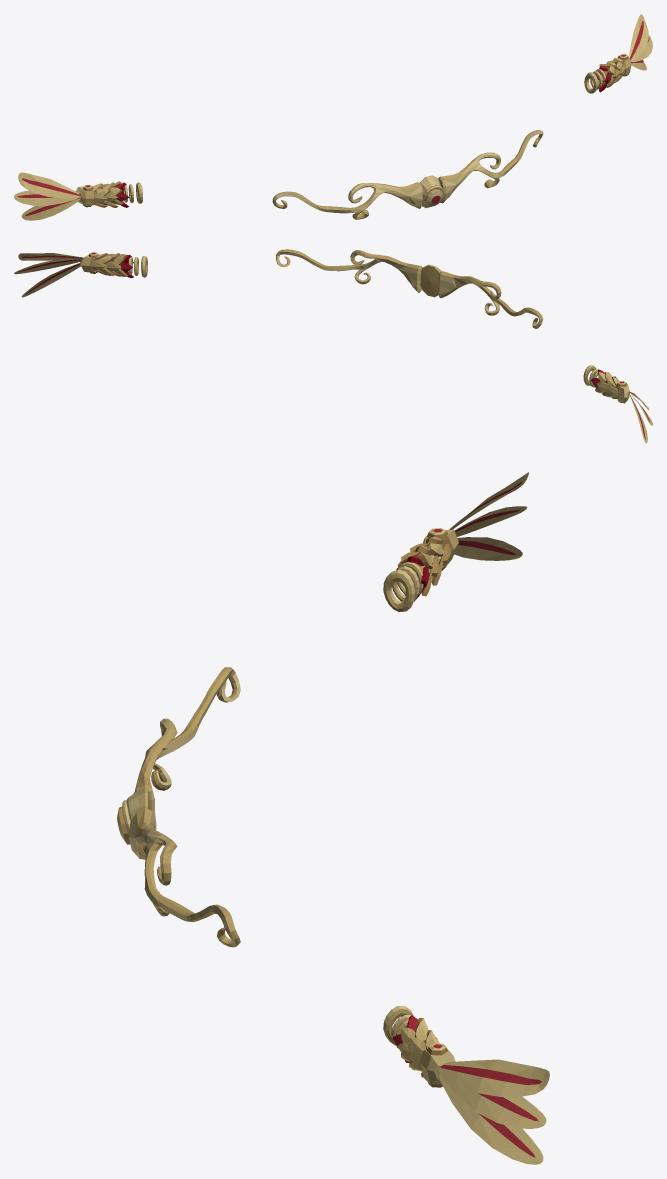
Rendered from largeCrossbowGreekTip.glb.
3 views of the same model, one above another, from view 1: azimuth 30°, elevation 25°; view 2: azimuth 150°, elevation 25°; view 3: azimuth 270°, elevation 25° (orthographic). The views are drawn at different scales.
Visible parts, largest first — view 1: largeCrossbowGreekTip; view 2: largeCrossbowGreekTip; view 3: largeCrossbowGreekTip.
Boxes of the visible parts, x1=… form: largeCrossbowGreekTip: x1=14, y1=14, x2=652, y2=220; largeCrossbowGreekTip: x1=14, y1=249, x2=652, y2=443; largeCrossbowGreekTip: x1=117, y1=472, x2=549, y2=1164.
Size of the model in its own units: 1.49 by 0.1048 by 0.4405.
